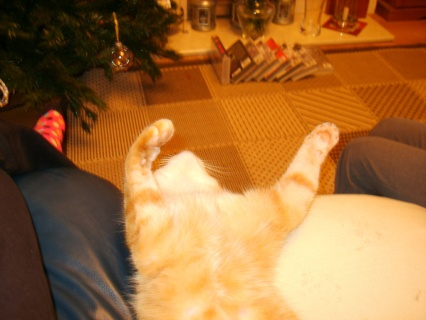Cat: (117, 117, 337, 319)
